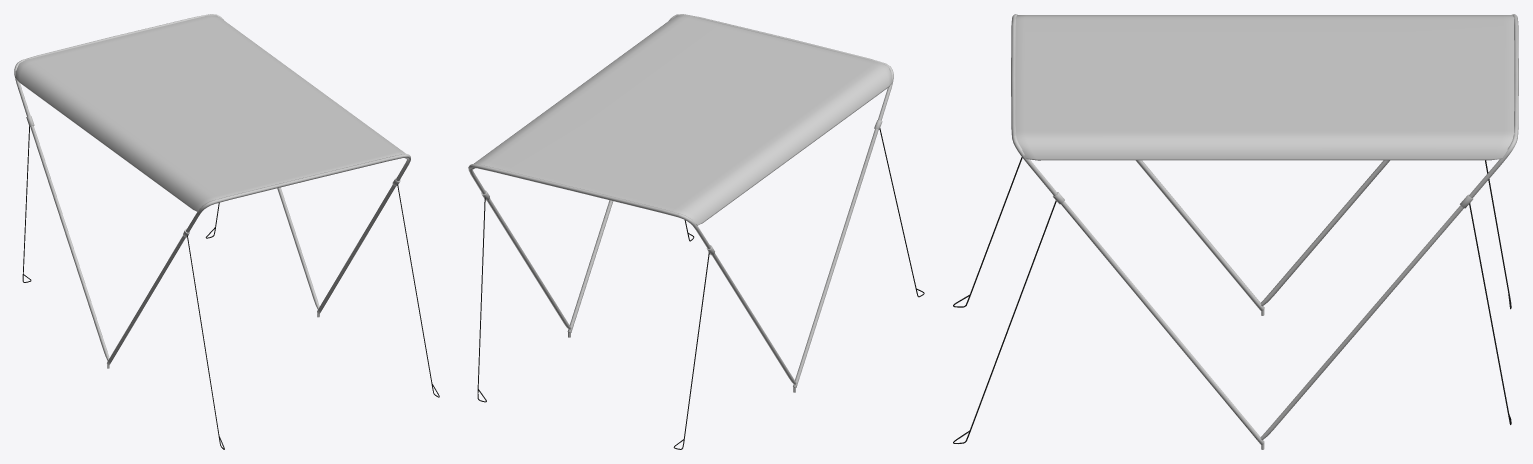
The model's file is FoldingBimini.glb.
3 renders of one model, left to right at view 1: azimuth 30°, elevation 25°; view 2: azimuth 150°, elevation 25°; view 3: azimuth 270°, elevation 25°, orthographic. The views are drawn at different scales.
Parts seen in each view (by area): view 1: 360 folding bimini; view 2: 360 folding bimini; view 3: 360 folding bimini.
Boxes of the visible parts, x1=… form: 360 folding bimini: x1=14, y1=14, x2=439, y2=449; 360 folding bimini: x1=468, y1=14, x2=924, y2=449; 360 folding bimini: x1=953, y1=14, x2=1518, y2=449.
Size of the model in its own units: 4.59 by 4.79 by 7.98.
1 material, 1 textured.
